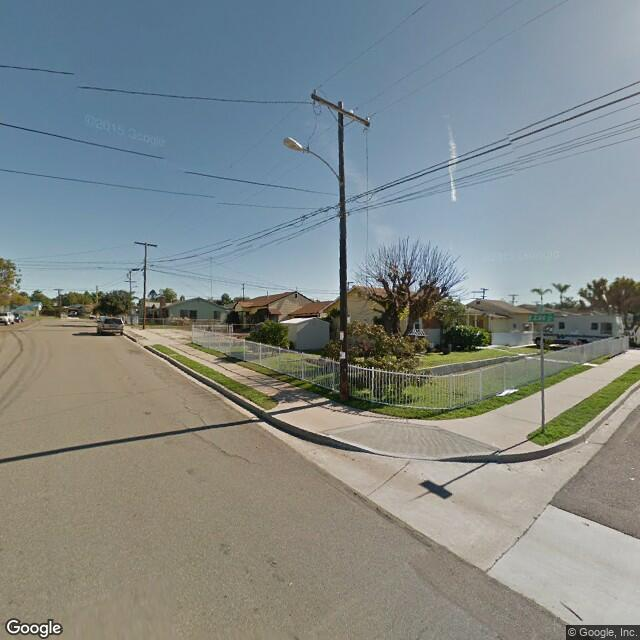litter: (496, 390, 517, 399)
